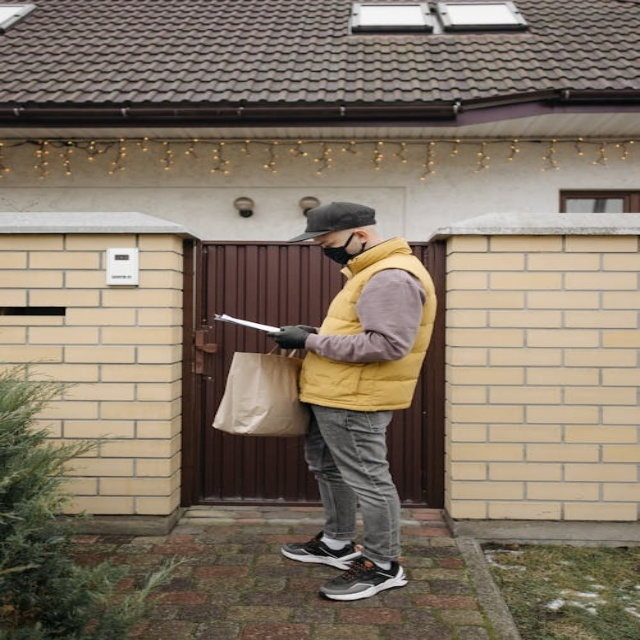Guantes: (268, 324, 317, 350)
Mascara: (321, 233, 361, 266)
Sin_gafas: (312, 234, 342, 251)
